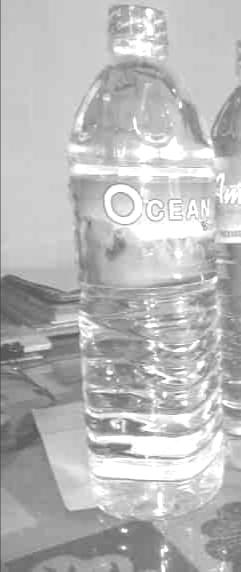bottle: (62, 0, 235, 485), (194, 17, 241, 480)
